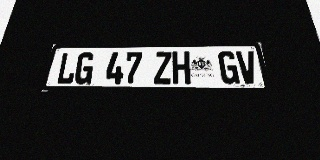4: (105, 52, 125, 84)
7: (123, 52, 142, 84)
G: (218, 51, 240, 84), (73, 52, 95, 84)
H: (172, 51, 191, 84)
L: (55, 52, 78, 84)
V: (236, 51, 259, 84)
Z: (154, 52, 172, 84)
